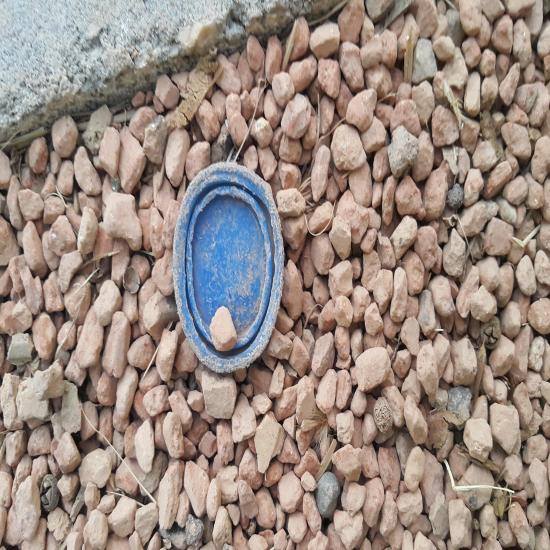Disposable plastic cup: (122, 389, 182, 500)
Other plastic: (144, 194, 158, 220)
Unlabeled litter: (94, 0, 143, 57), (137, 0, 157, 10), (200, 359, 211, 373)
